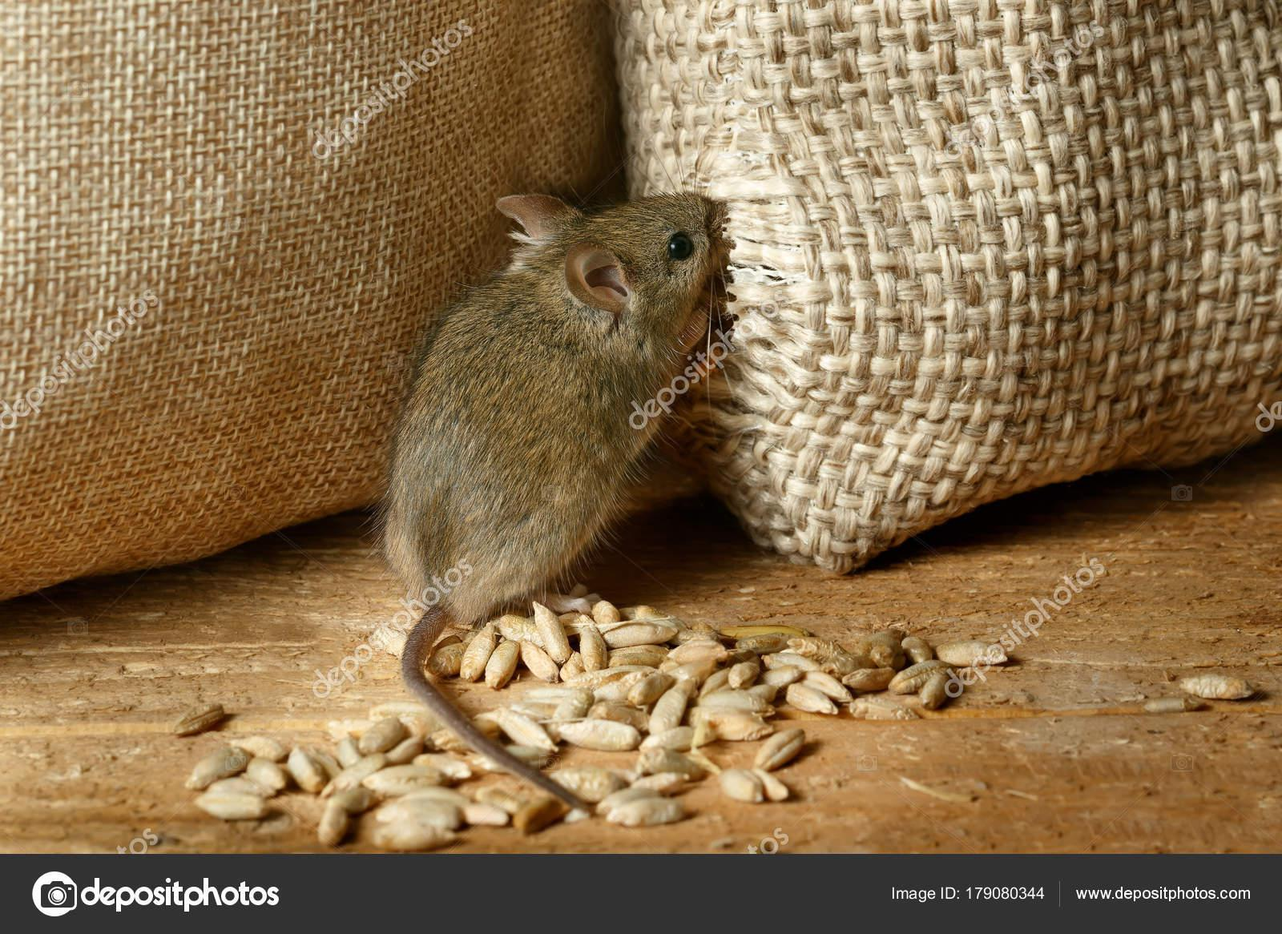rat: (388, 193, 710, 814)
